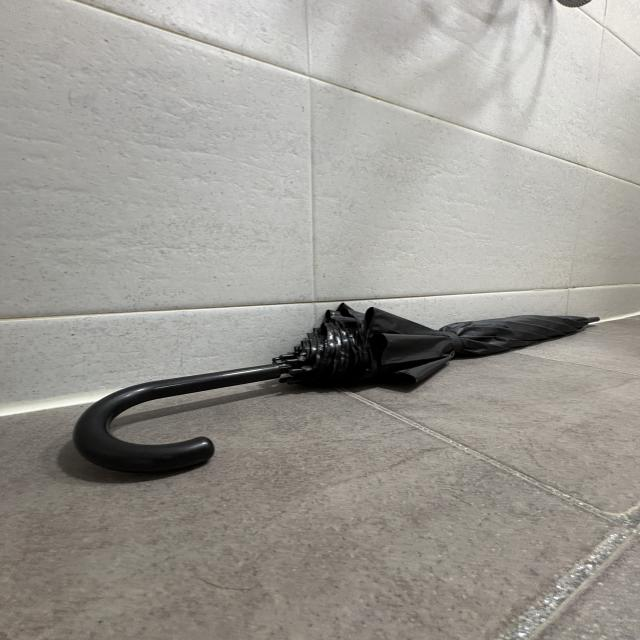umbrella: (70, 302, 596, 469)
